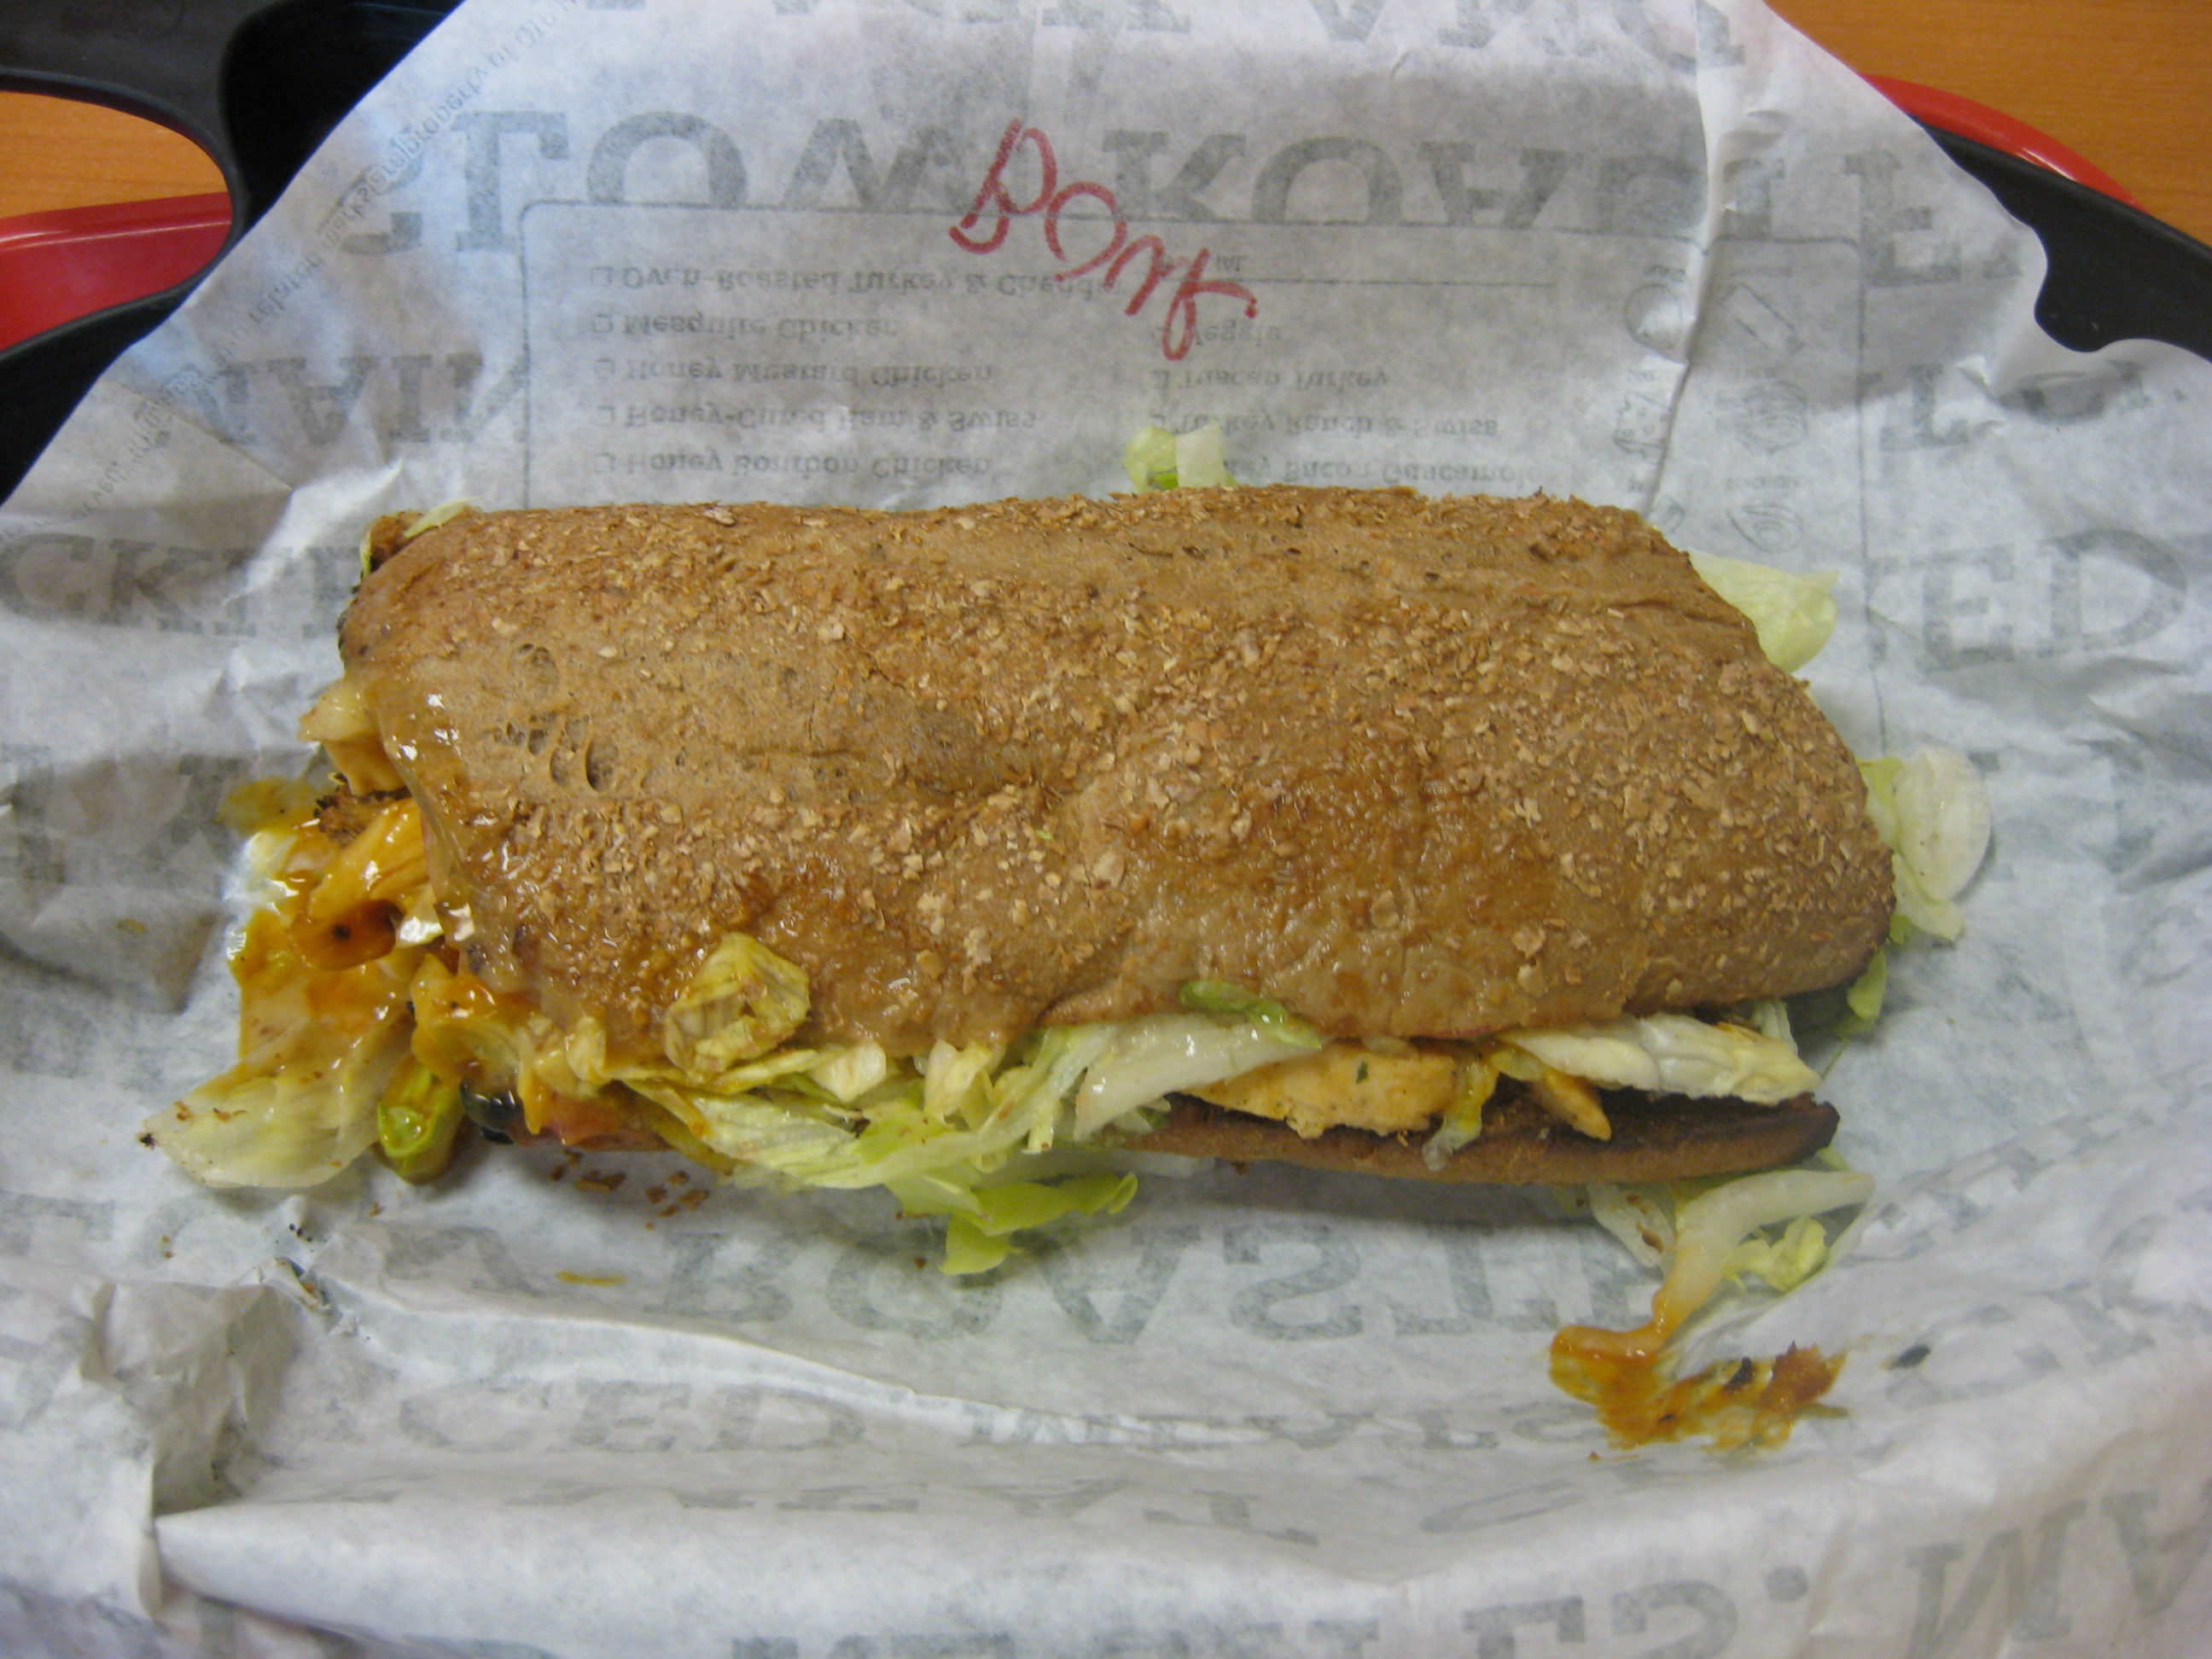sub: (282, 487, 1967, 1243)
